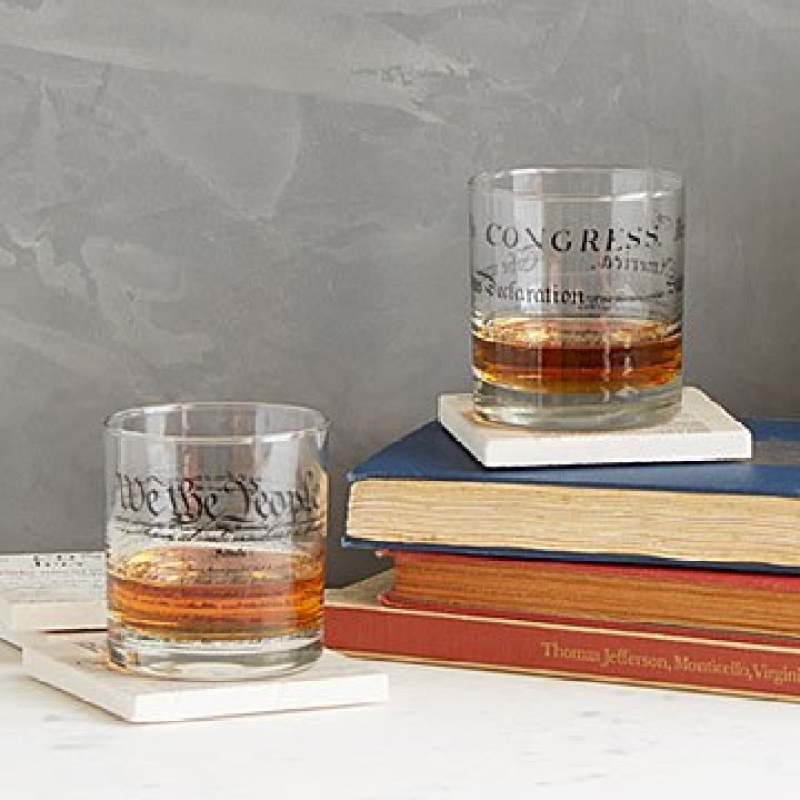whiskey: (112, 402, 337, 664), (466, 170, 683, 420)
